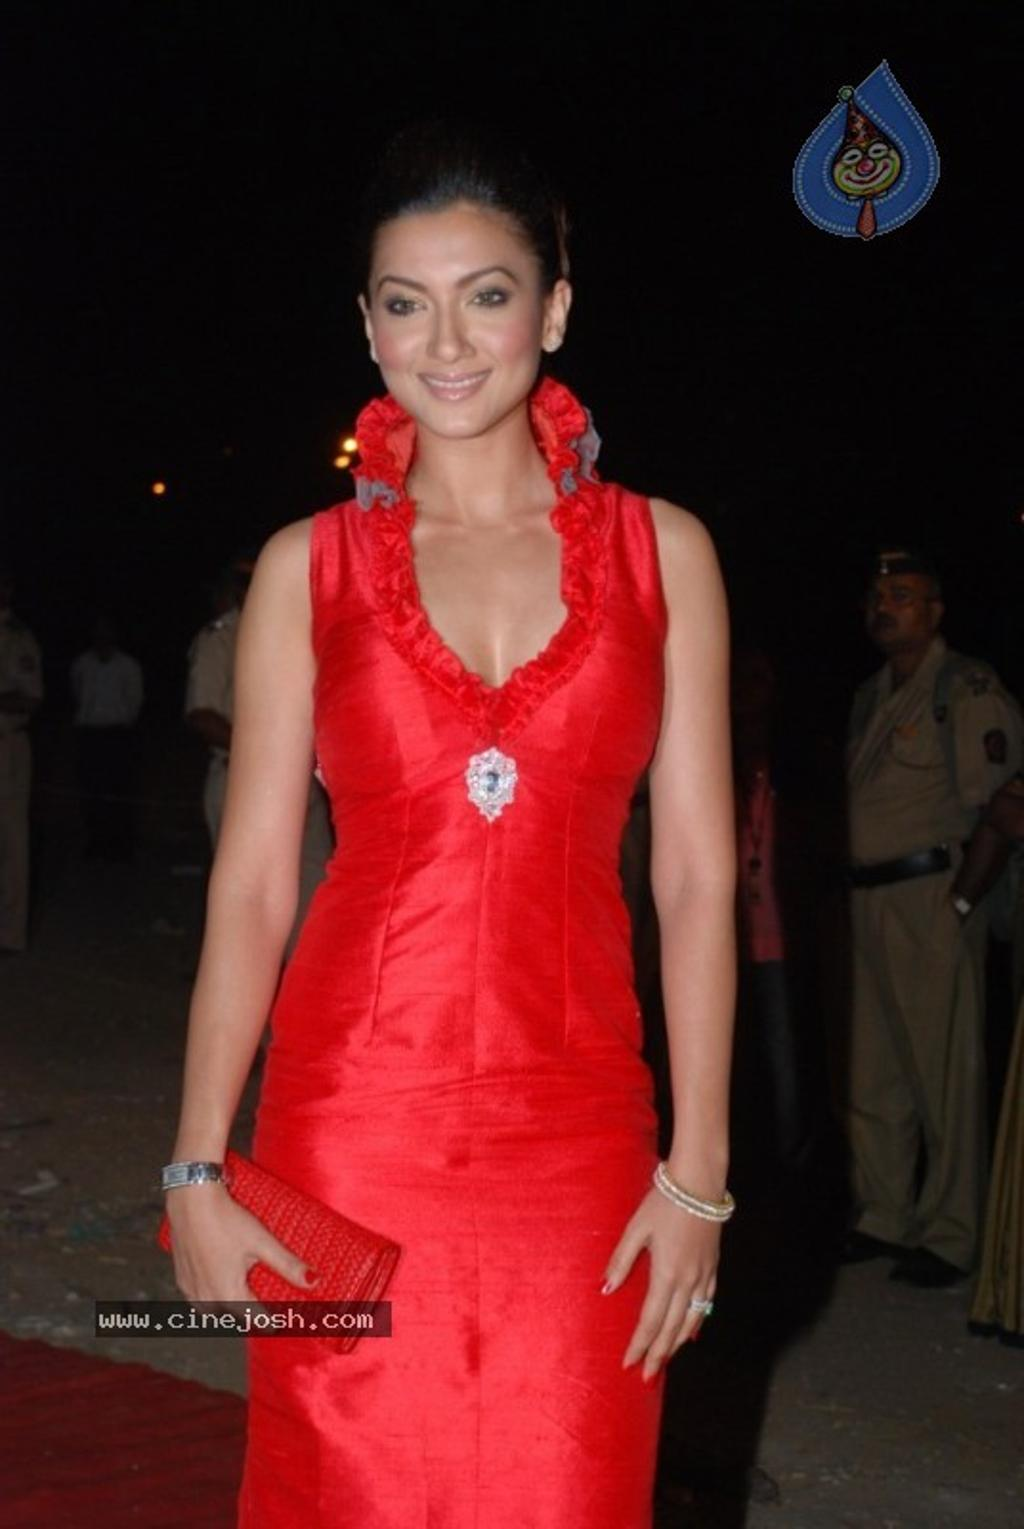face: (367, 197, 543, 433), (860, 564, 926, 645)
